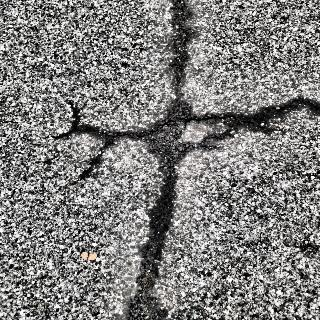crack: (37, 97, 320, 175)
